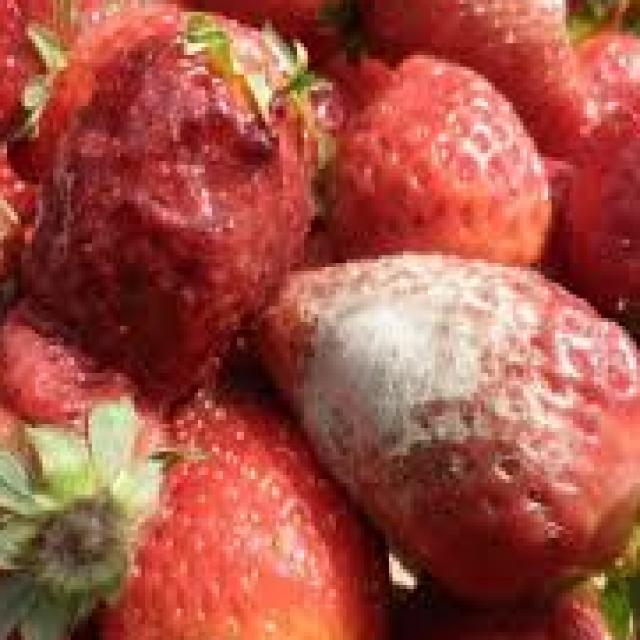inorganic: (269, 209, 631, 589), (21, 9, 337, 391), (320, 39, 636, 331), (67, 359, 385, 637)
